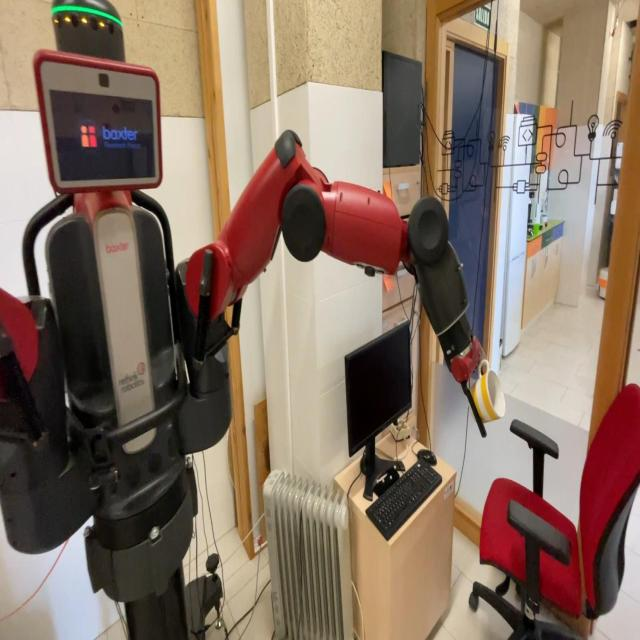cup: (468, 361, 506, 425)
